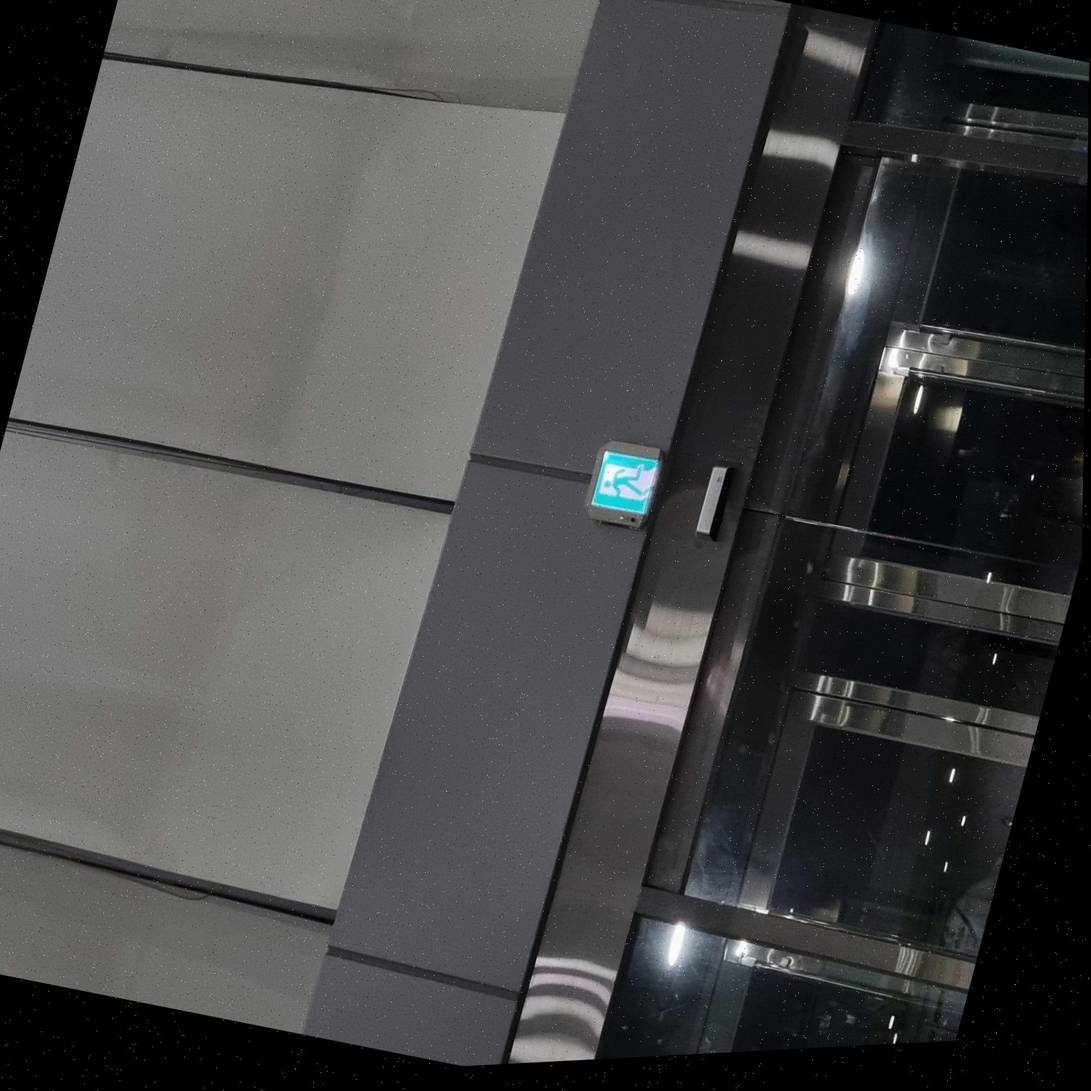emergency_exit: (584, 440, 663, 529)
